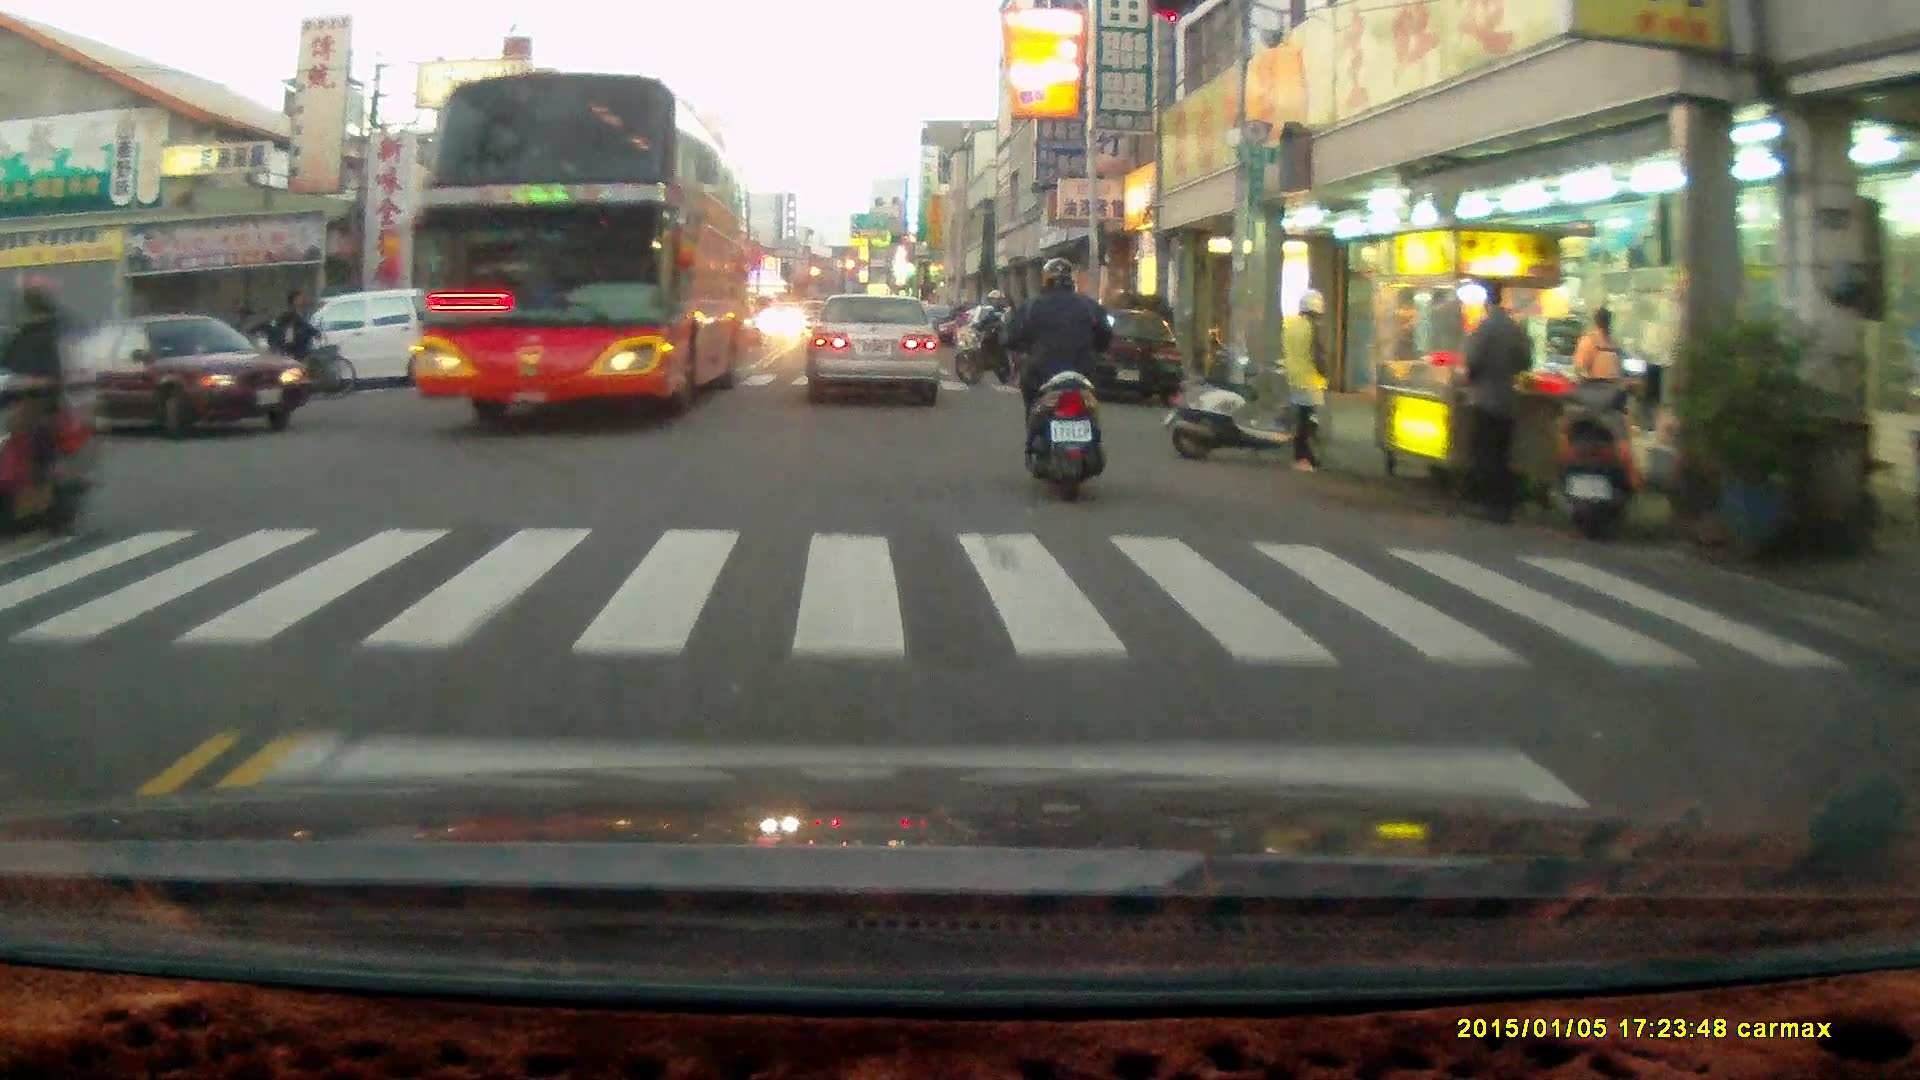pedestrian: (1463, 274, 1531, 523), (1571, 305, 1630, 493), (1280, 287, 1333, 471)
rider: (1000, 246, 1116, 493), (0, 272, 99, 551), (251, 287, 352, 400), (951, 288, 1020, 389)
vehicle: (410, 65, 757, 424), (47, 310, 305, 436), (295, 294, 452, 396), (805, 293, 945, 405), (1050, 303, 1186, 409)
